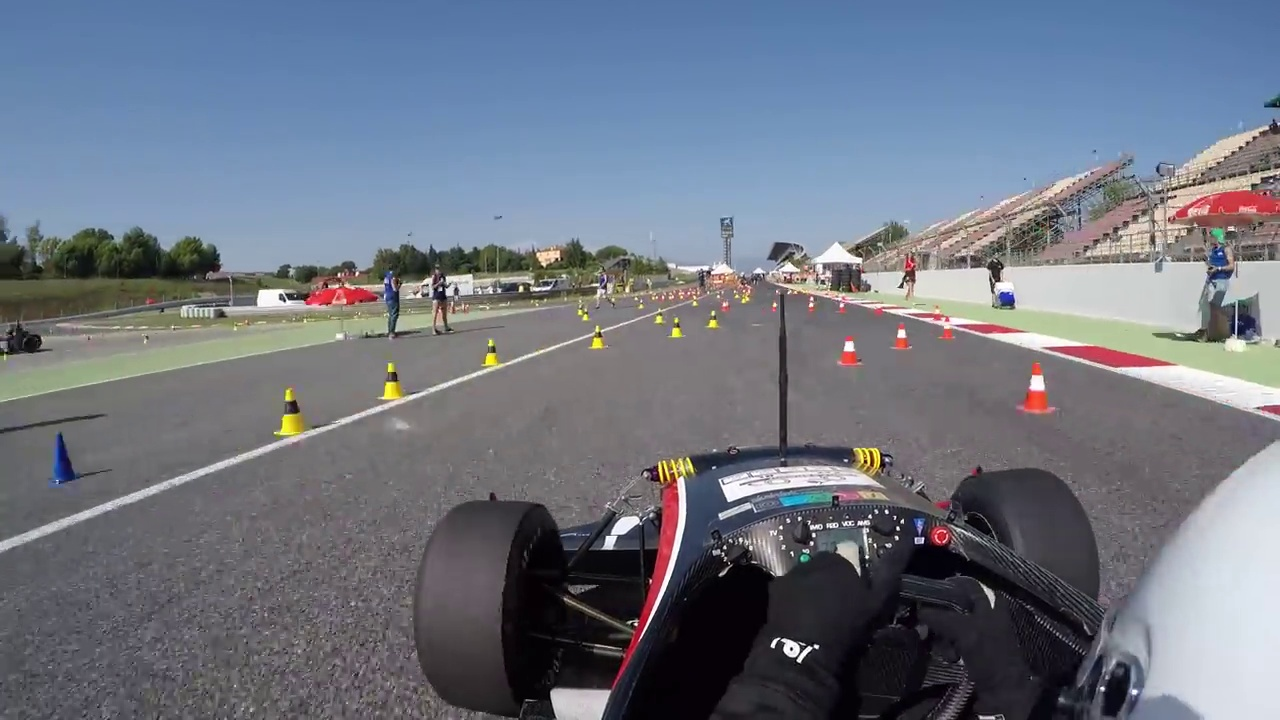Cone: (1018, 361, 1058, 417), (273, 386, 308, 441), (50, 431, 75, 485), (376, 359, 408, 399), (839, 331, 862, 368), (480, 336, 503, 367), (890, 322, 913, 349)
